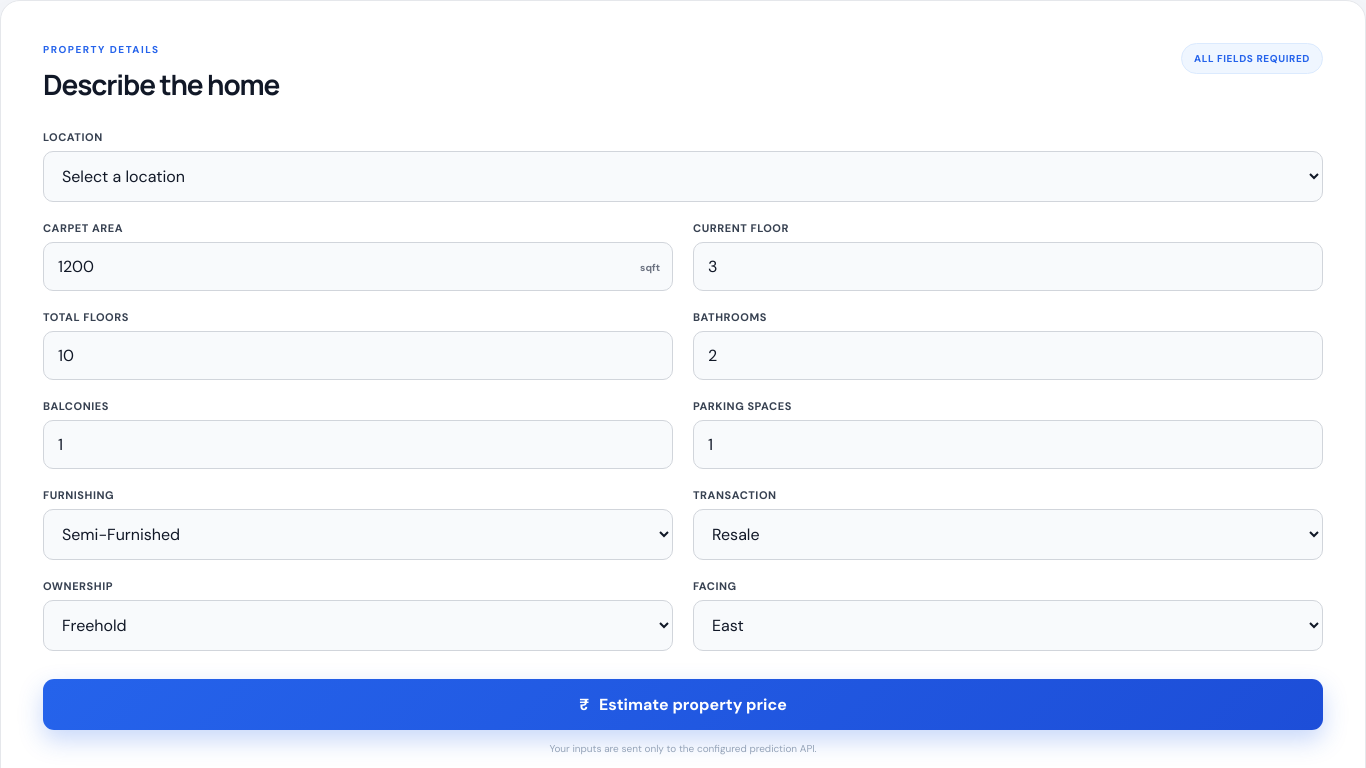
Test: PredictionForm › disables submit and shows a loading state
Select "mumbai" in the dropdown labelled "Location" at (683, 177), box [43,151,1323,202]
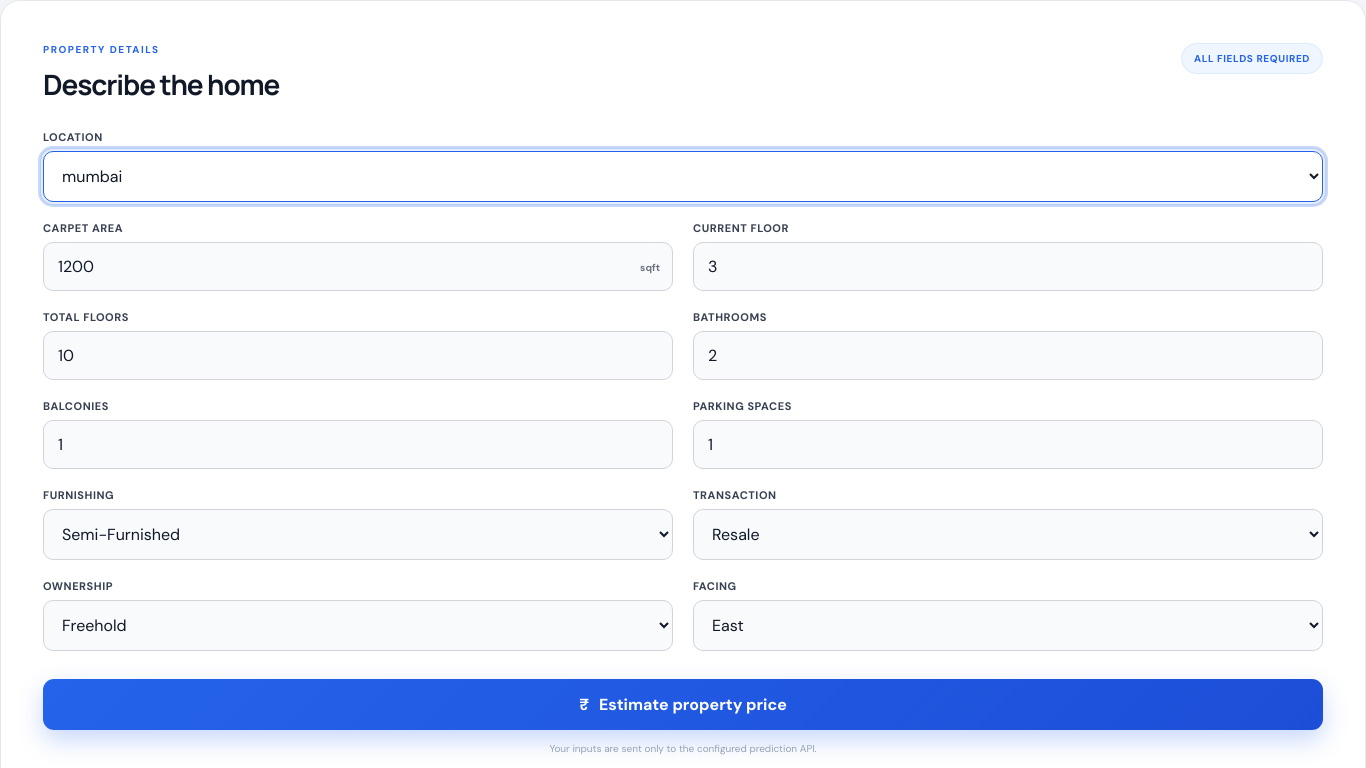
Click the button "₹ Estimate property price".
click(683, 705)  # box [43,679,1323,730]
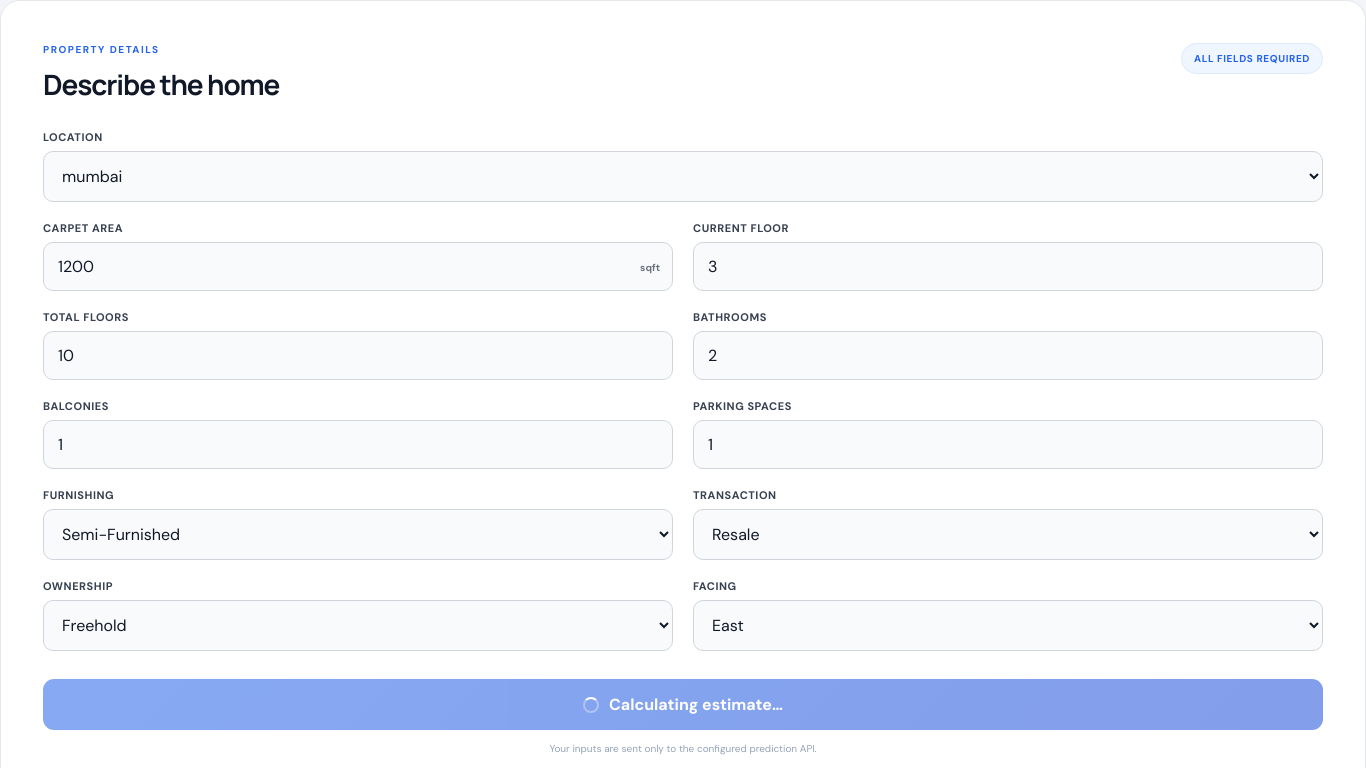
Expected: the button "Calculating estimate…" is disabled, [43,679,1323,730]
